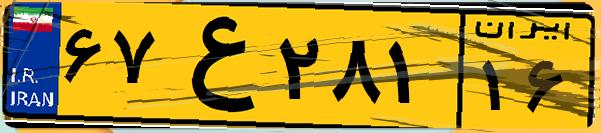1: (385, 28, 445, 110), (475, 38, 525, 113)
2: (270, 28, 330, 110)
6: (57, 26, 110, 100), (525, 38, 570, 115)
7: (110, 28, 158, 98)
8: (330, 28, 385, 110)
ع: (158, 12, 270, 120)
